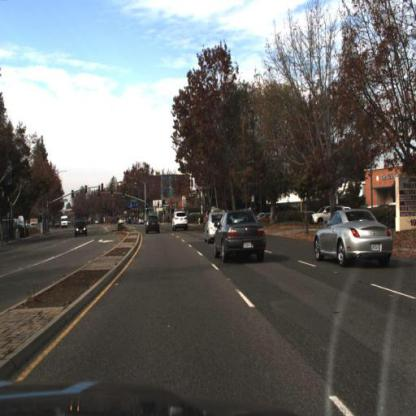car: (312, 205, 402, 271), (213, 205, 267, 261), (203, 204, 224, 254), (204, 207, 225, 243), (311, 204, 337, 226), (143, 210, 164, 237), (172, 208, 193, 234), (76, 222, 88, 238)
truck: (59, 213, 71, 229)
